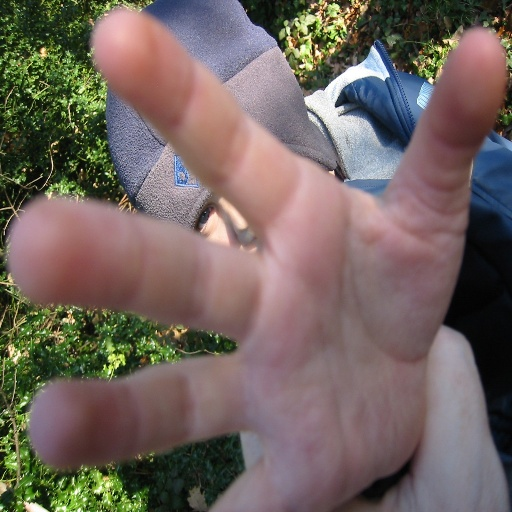hand: (50, 12, 512, 512), (238, 324, 511, 511)
